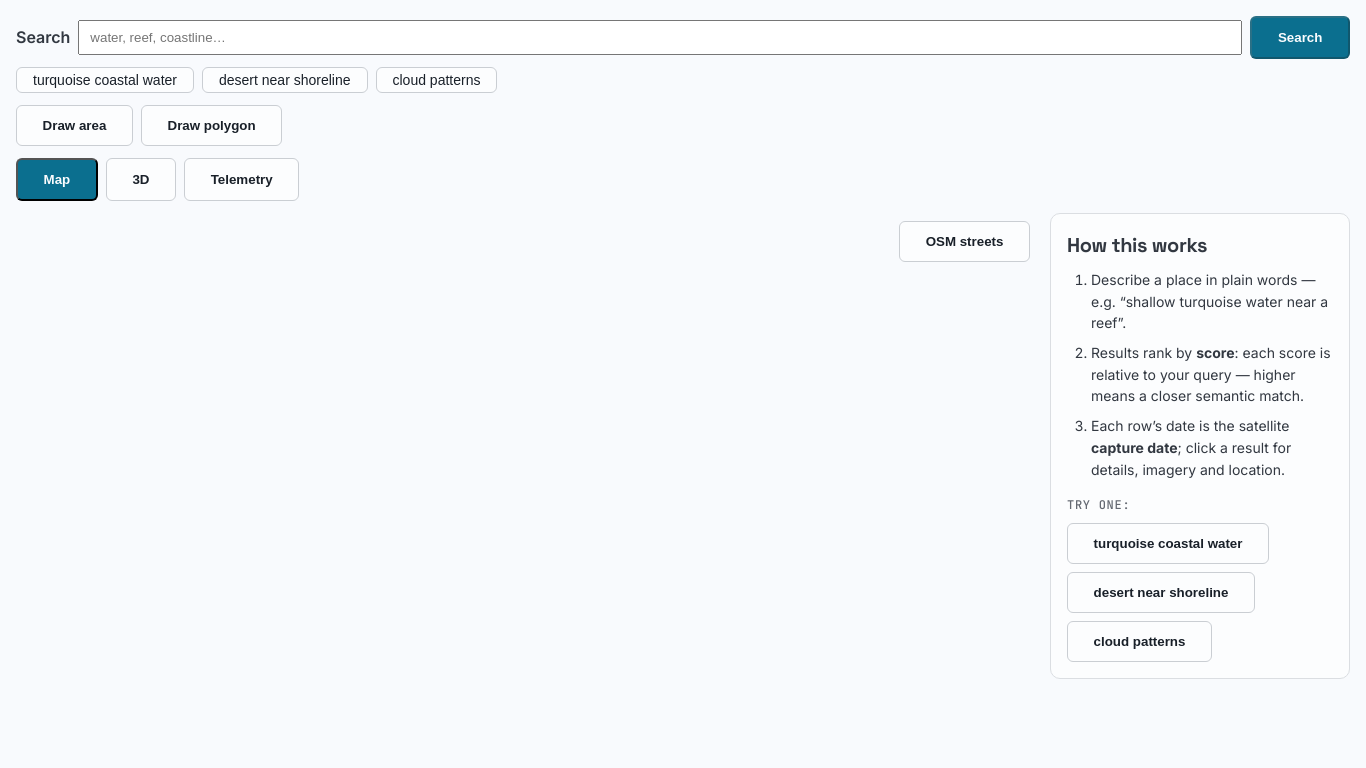
Test case: detail prev/next › disables prev/next when fewer than 2 results are selectable
The width and height of the screenshot is (1366, 768).
In the search field labelled "Search": (660, 38) [78,20,1242,55], type "water"
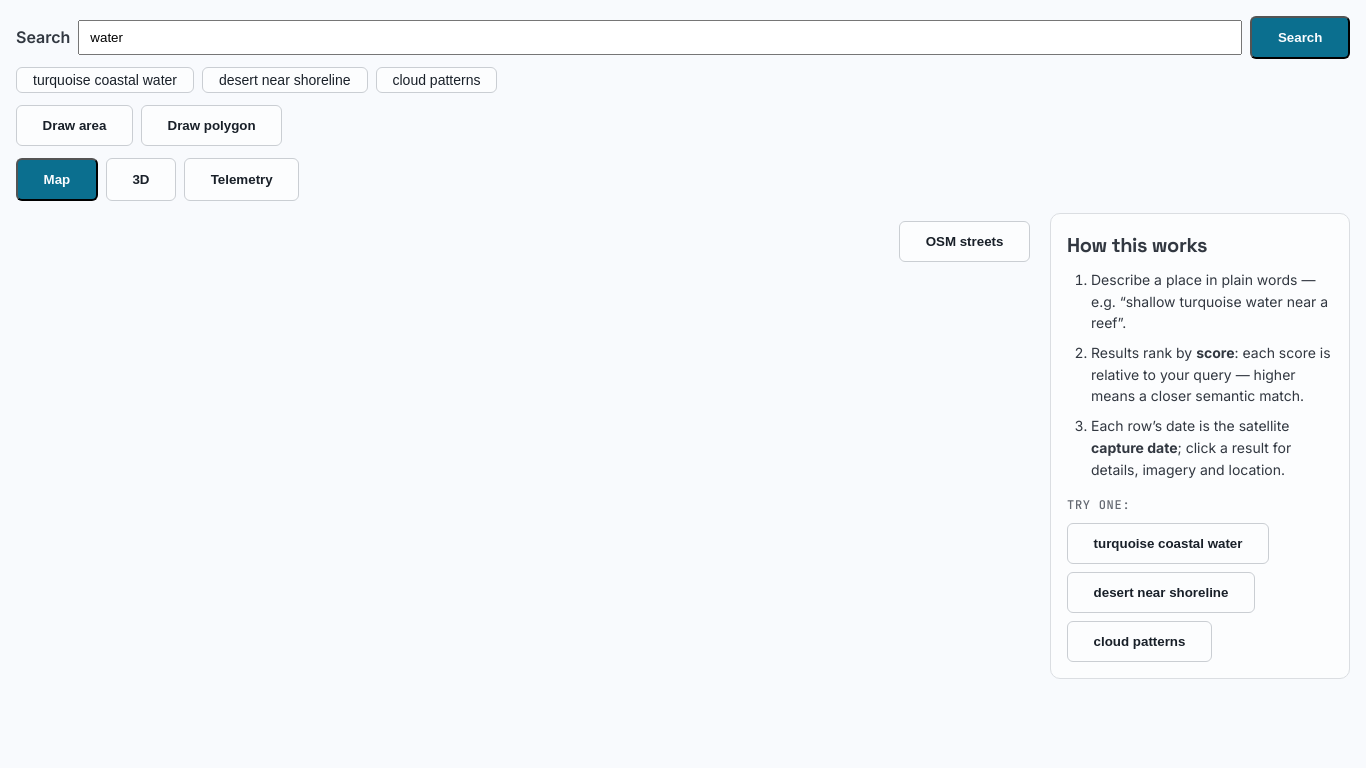
Click the button "Search": (1300, 38) [1250,16,1350,59]
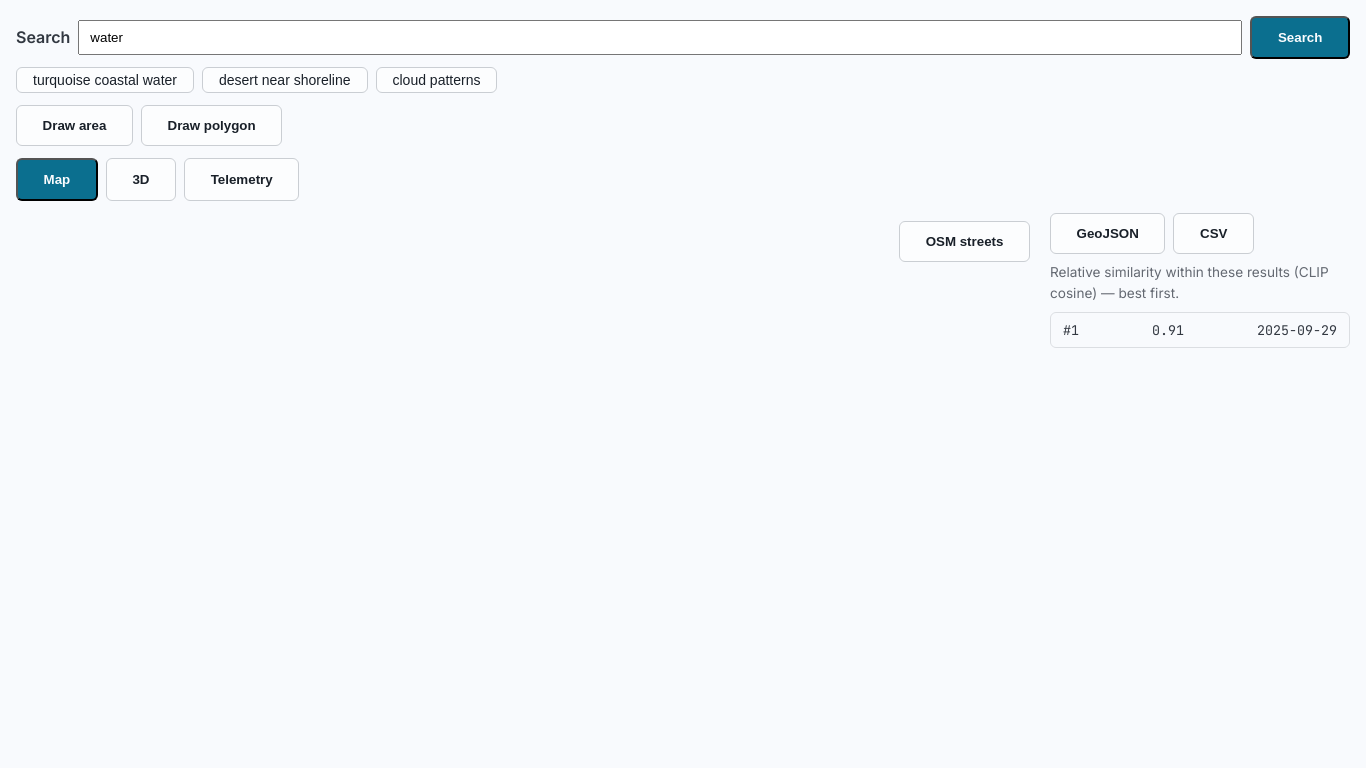
Click the button "#1 0.91 2025-09-29": (1168, 330) [1050,312,1350,348]
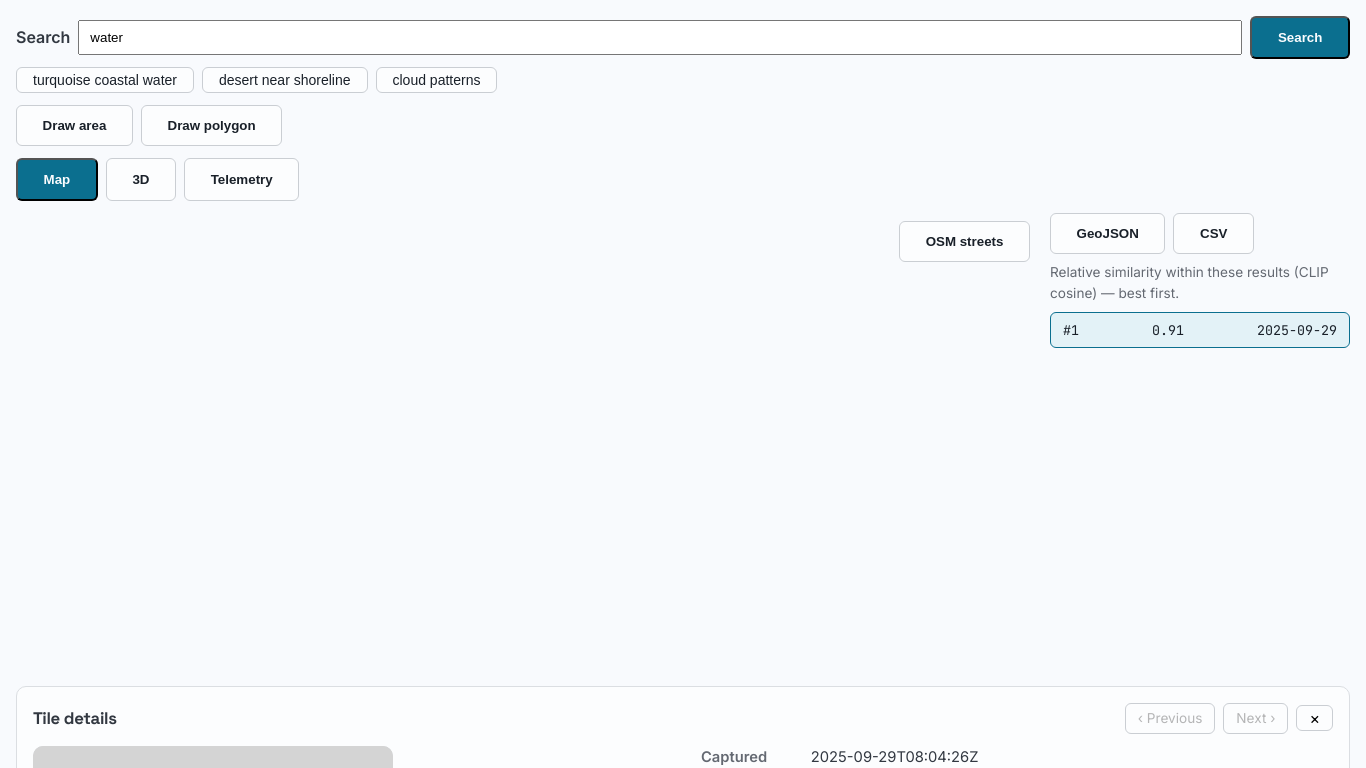
Now the button named "Previous result" is disabled, box [1125,703,1215,734]
Now the button named "Next result" is disabled, box [1223,703,1288,734]
